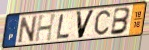B: (109, 6, 132, 37)
C: (94, 9, 112, 37)
H: (34, 12, 59, 43)
L: (56, 13, 71, 40)
N: (17, 15, 38, 45)
V: (75, 9, 97, 40)
